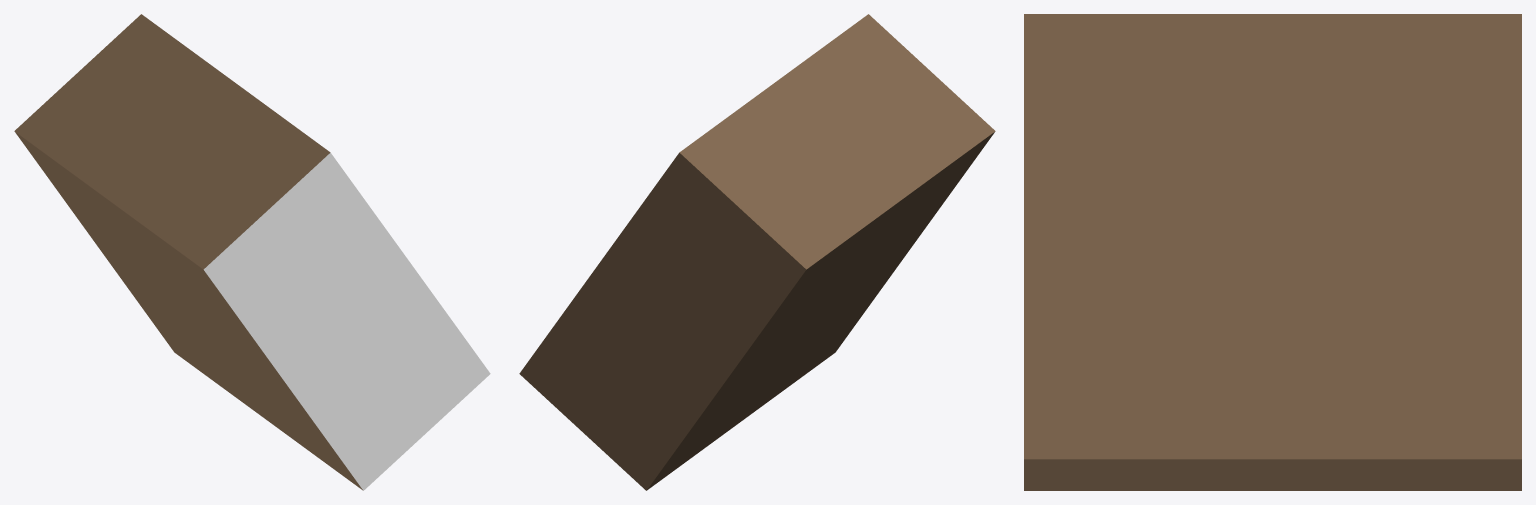
The picture shows the model from 3 angles, left to right: view 1: azimuth 30°, elevation 25°; view 2: azimuth 150°, elevation 25°; view 3: azimuth 270°, elevation 25°; orthographic projection. The views are drawn at different scales.
Parts seen in each view (by area): view 1: City_1202424; view 2: City_1202424; view 3: City_1202424.
Part boxes in pixels (<box>): City_1202424: <box>14,14,490,490</box>; City_1202424: <box>519,14,995,490</box>; City_1202424: <box>1024,14,1521,490</box>.
Bounding box in the file's own units: 1205 × 1390 × 1376.
